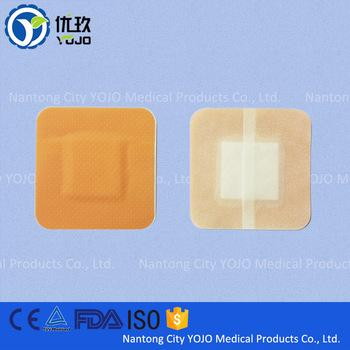bandage: (189, 108, 312, 229), (38, 107, 158, 229)
